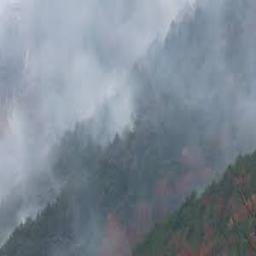Low smoke: (3, 2, 174, 185)
